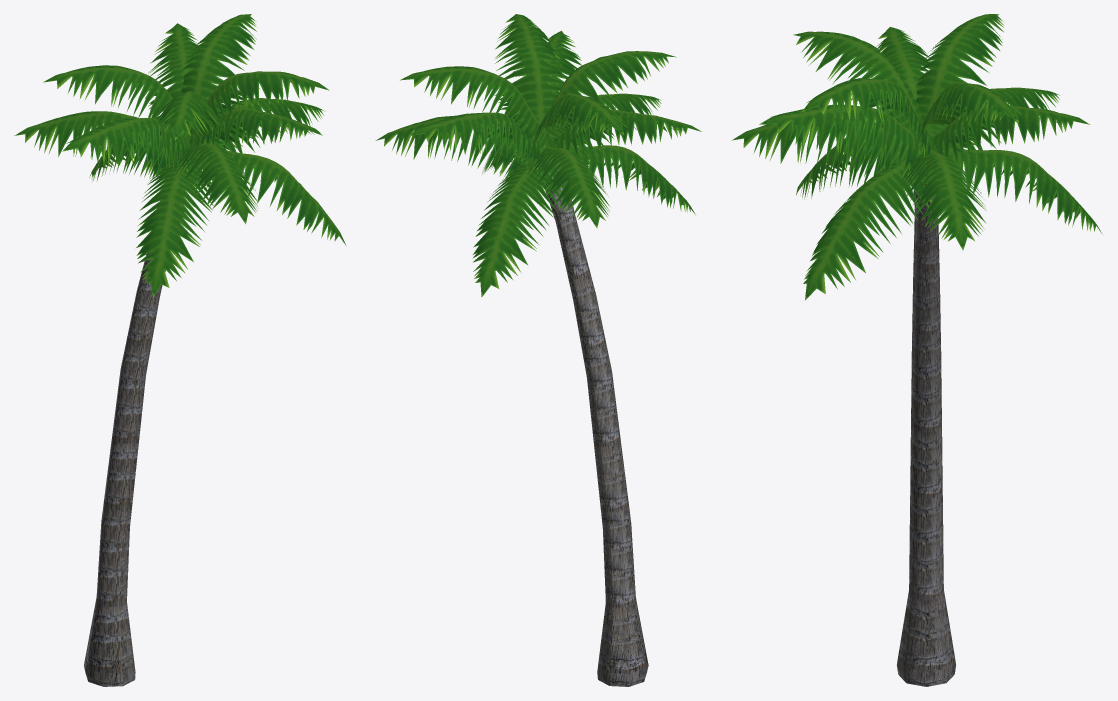
File: palmTree.gltf
3 renders of one model, left to right at view 1: azimuth 30°, elevation 25°; view 2: azimuth 150°, elevation 25°; view 3: azimuth 270°, elevation 25°, orthographic. The views are drawn at different scales.
Visible parts, largest first — view 1: palm_leaves, palm_trunk; view 2: palm_leaves, palm_trunk; view 3: palm_leaves, palm_trunk.
Boxes of the visible parts, x1=… form: palm_leaves: x1=14, y1=14, x2=346, y2=297; palm_trunk: x1=84, y1=200, x2=165, y2=686; palm_leaves: x1=375, y1=14, x2=701, y2=297; palm_trunk: x1=545, y1=163, x2=648, y2=686; palm_leaves: x1=731, y1=14, x2=1102, y2=300; palm_trunk: x1=897, y1=181, x2=955, y2=686.
Bounding box in the file's own units: 1189 × 2281 × 1163.
Materials: 2 (2 with a texture image).
